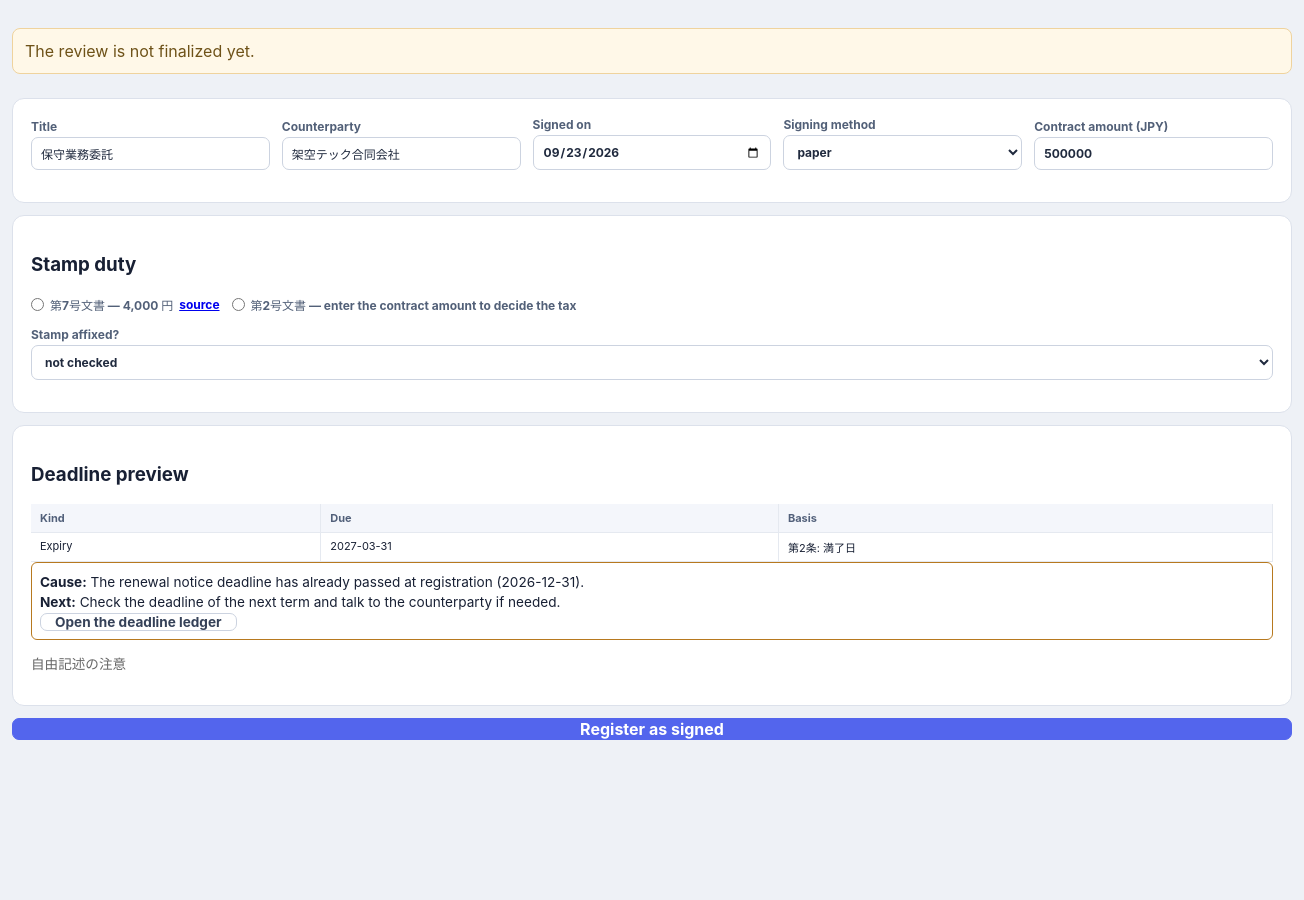
Test case: SignStep › 境界: 金額は数値のときだけプレビューへ送り、締結日が空なら日付を送らず登録できない
Expected: the text "2027-03-31" is shown, [321,533,778,562]
Replace the text in the field labelled "Contract amount (JPY)" with "abc" at (1154, 154), box [1034,137,1273,170]
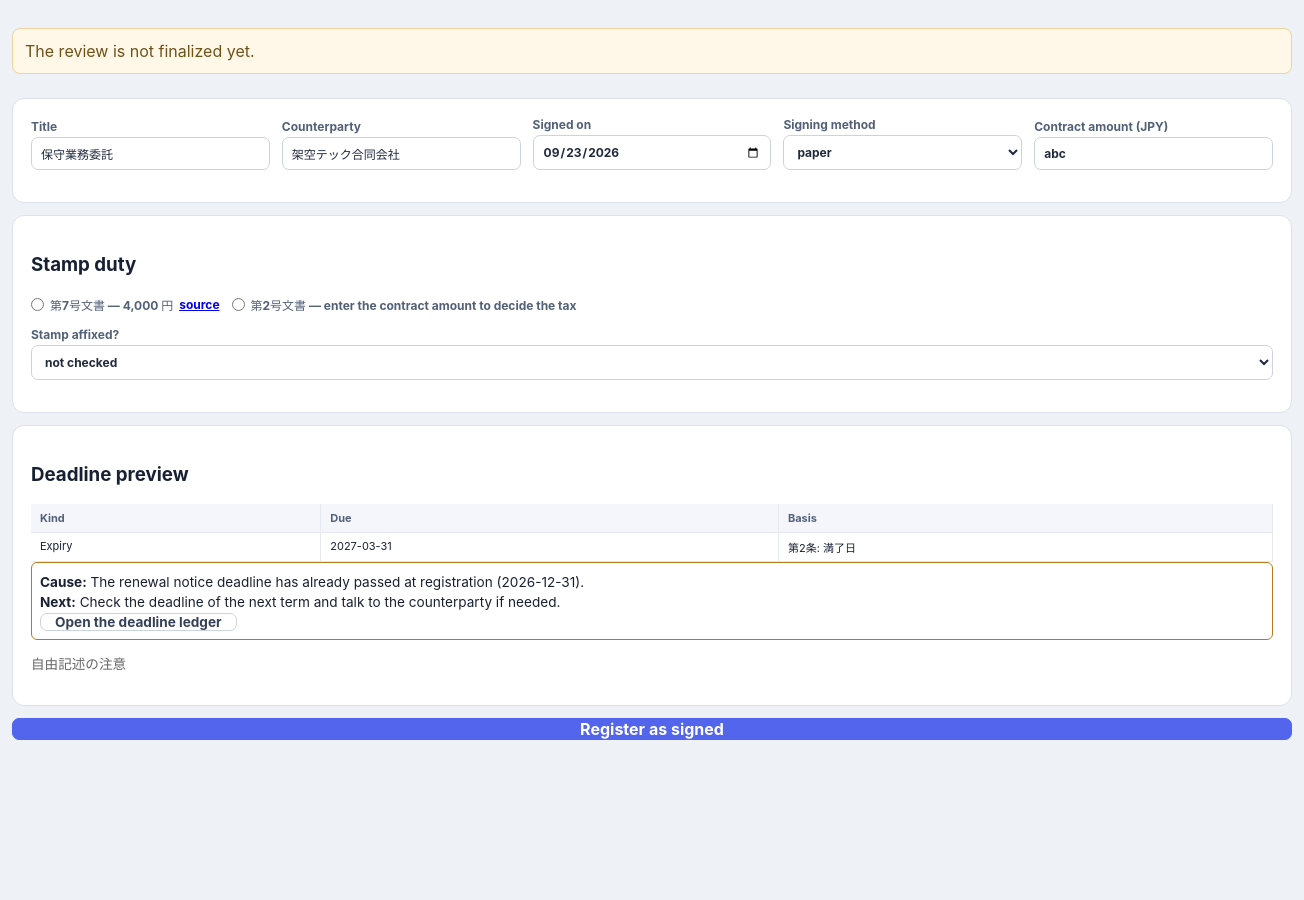
Clear the date field labelled "Signed on" at (652, 153), box [533,135,771,170]
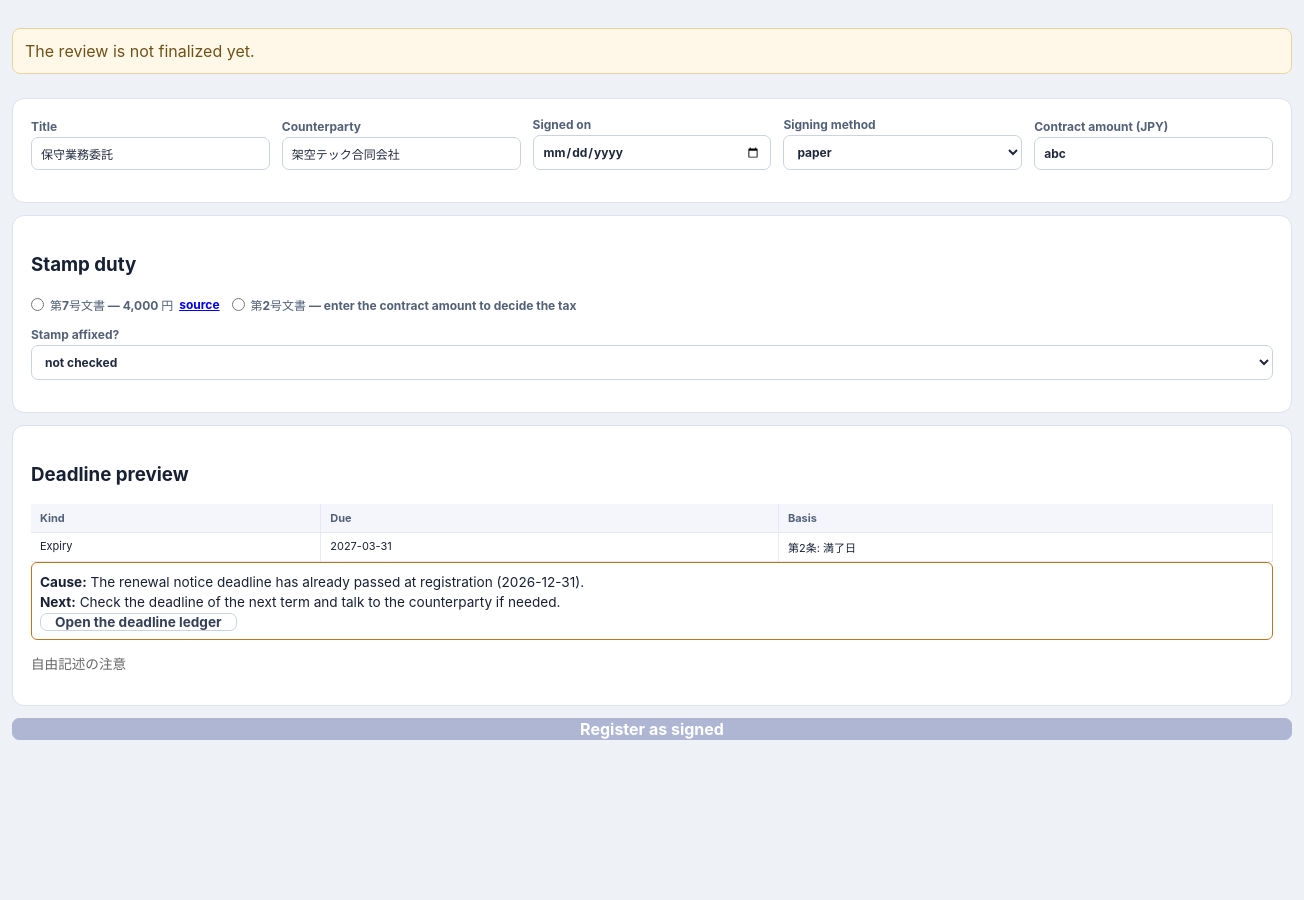
Expected: the button "Register as signed" is disabled, [12,718,1292,740]
